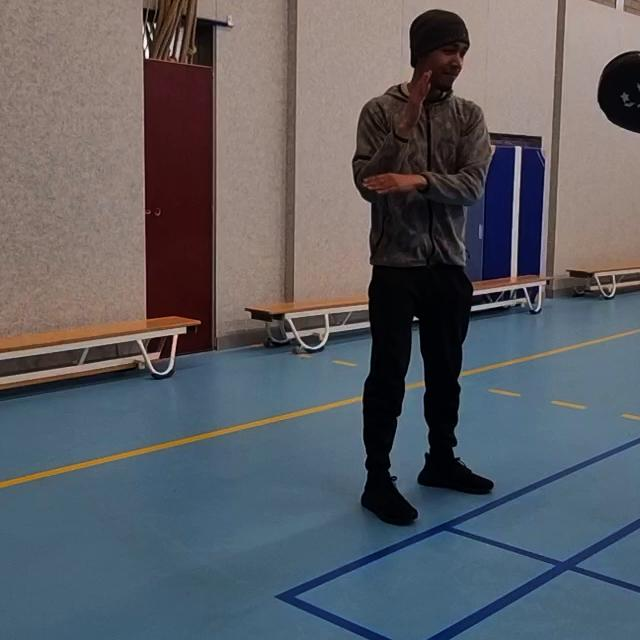paddle: (596, 46, 640, 144)
